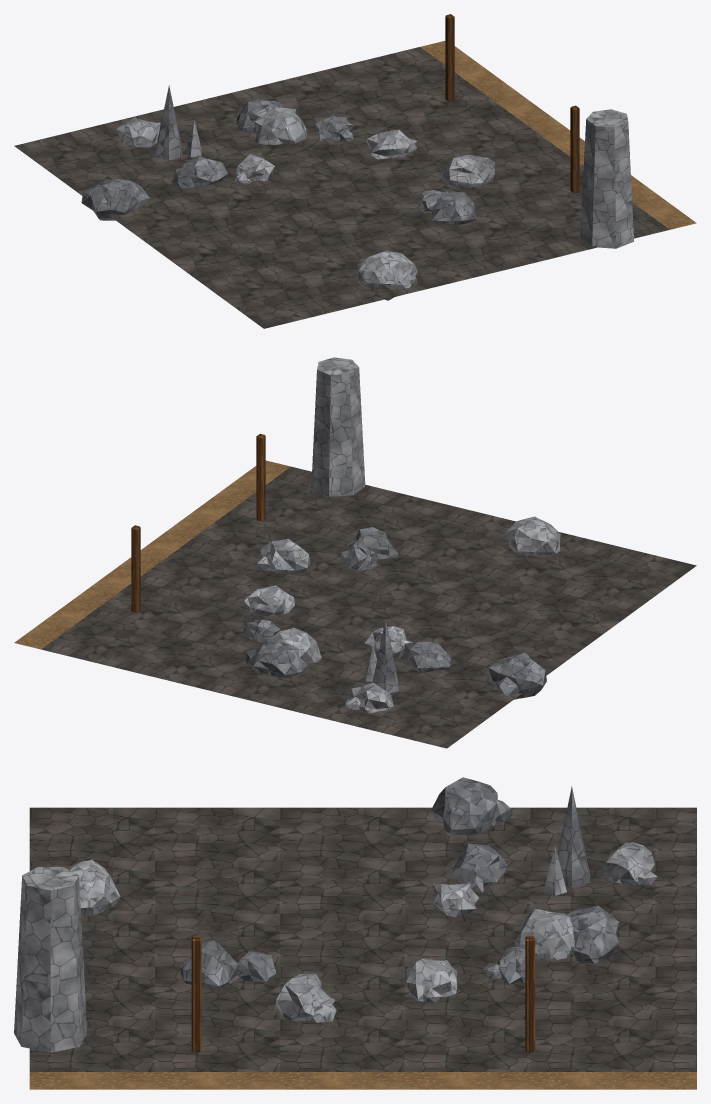
Rendered from chunk_5_19.glb.
3 renders of one model, top to bottom at view 1: azimuth 30°, elevation 25°; view 2: azimuth 150°, elevation 25°; view 3: azimuth 270°, elevation 25°, orthographic. The views are drawn at different scales.
Parts seen in each view (by area): view 1: chunk_5_19; view 2: chunk_5_19; view 3: chunk_5_19.
Boxes of the visible parts, box(x1,y1,x2,y2) form: chunk_5_19: box(14, 14, 696, 328); chunk_5_19: box(14, 357, 696, 748); chunk_5_19: box(14, 777, 696, 1089).
Size of the model in its own units: 16.53 by 4.8 by 16.38.
6 materials, 6 textured.
